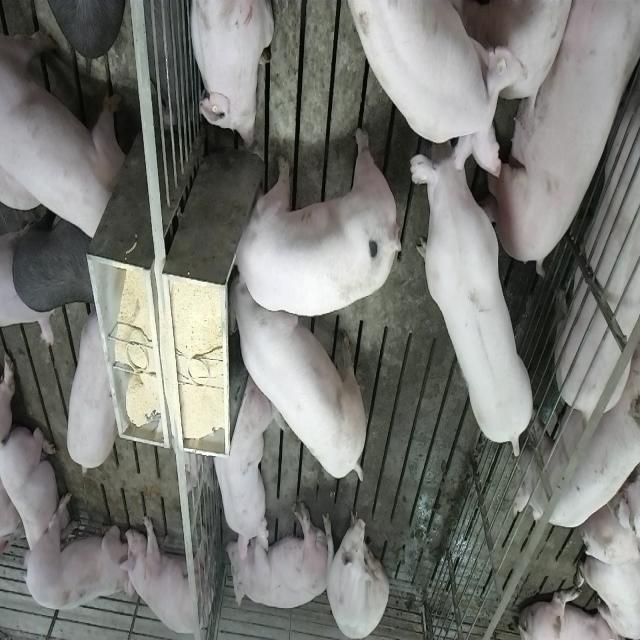Feeding: (224, 124, 396, 318), (229, 275, 372, 485)
Lateral_lying: (483, 1, 637, 274), (224, 500, 332, 611)
Sitting: (322, 499, 388, 637)
Standing: (406, 124, 534, 459), (554, 19, 640, 425), (347, 0, 513, 174), (1, 23, 126, 246), (518, 361, 640, 533), (24, 492, 130, 612), (120, 508, 210, 636), (62, 309, 116, 479), (11, 210, 94, 312)
Sternal_lying: (186, 0, 274, 151), (208, 378, 279, 560), (1, 424, 59, 564)
